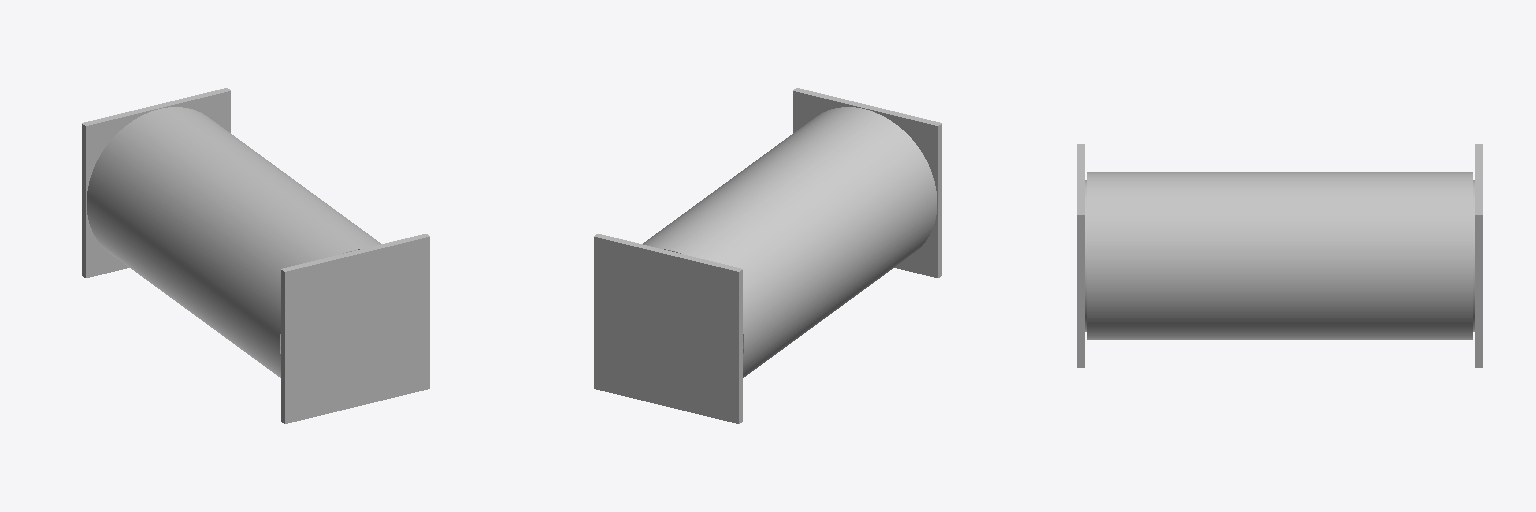
File: valec velky.obj
The picture shows the model from 3 angles: view 1: azimuth 30°, elevation 25°; view 2: azimuth 150°, elevation 25°; view 3: azimuth 270°, elevation 25°; orthographic projection.
Visible parts, largest first — view 1: valec_velky.002_Cylinder.019; view 2: valec_velky.002_Cylinder.019; view 3: valec_velky.002_Cylinder.019.
Part boxes in pixels (left/top/right/bottom): valec_velky.002_Cylinder.019: left=82, top=88, right=429, bottom=423; valec_velky.002_Cylinder.019: left=594, top=88, right=941, bottom=423; valec_velky.002_Cylinder.019: left=1077, top=144, right=1482, bottom=367.
Bounding box in the file's own units: 1 × 1 × 2.42.